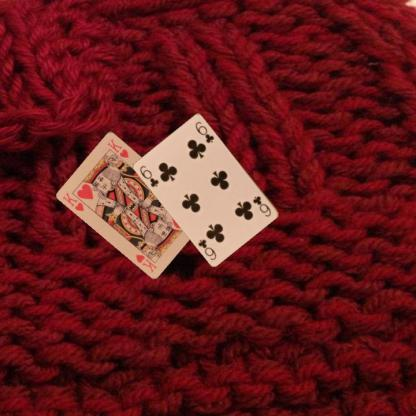6c: (250, 193, 273, 218), (138, 163, 160, 188)
Kh: (60, 190, 86, 212)
